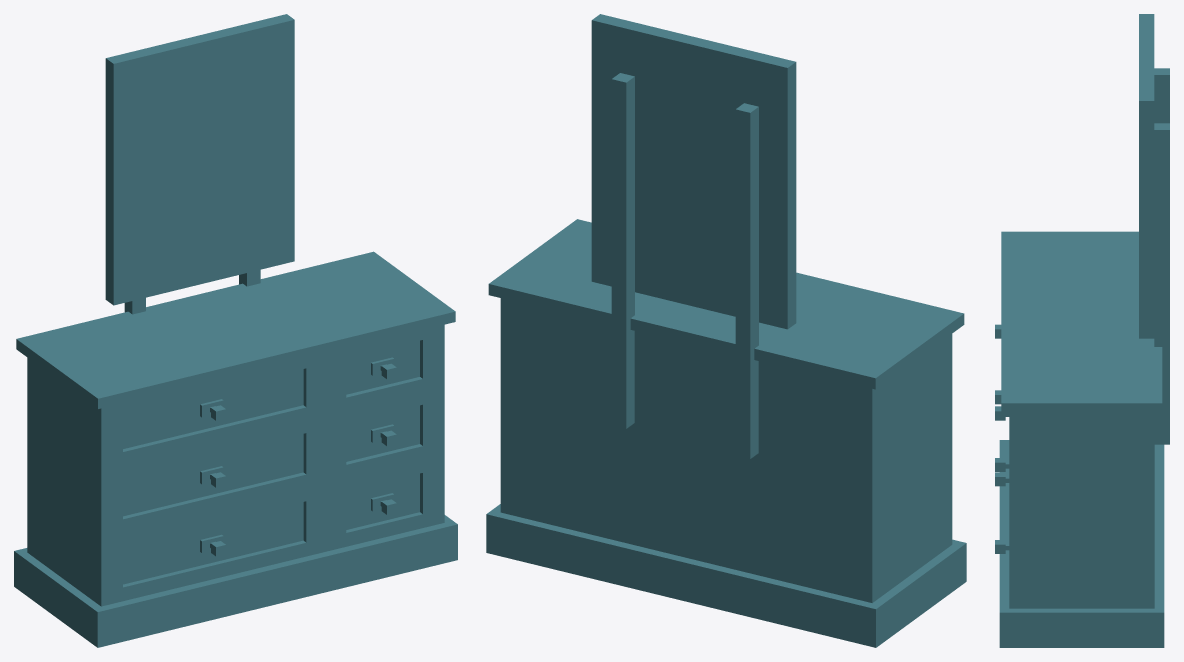
File: Komod.fbx
3 renders of one model, left to right at view 1: azimuth 30°, elevation 25°; view 2: azimuth 150°, elevation 25°; view 3: azimuth 270°, elevation 25°, orthographic. The views are drawn at different scales.
Visible parts, largest first — view 1: Prop_Dresser_02; view 2: Prop_Dresser_02; view 3: Prop_Dresser_02.
Part boxes in pixels (box(x1,y1,x2,y2)): Prop_Dresser_02: box(14, 14, 457, 647); Prop_Dresser_02: box(486, 14, 966, 647); Prop_Dresser_02: box(995, 14, 1169, 647).
Size of the model in its own units: 119 by 162 by 51.04.
